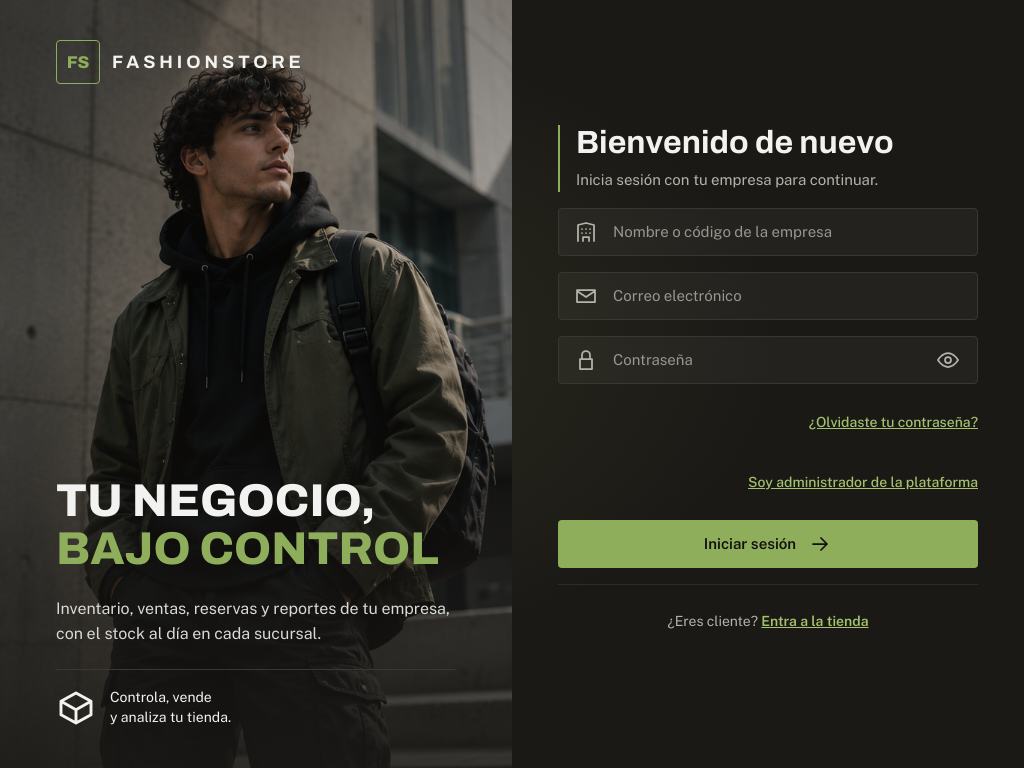
Test case: LoginComponent › login del personal (/admin/login) › el texto del titular cambia entre empresa y administrador de la plataforma
Click the button with class "acceso-enlace" that starts with "Soy administrador de la plataforma".
click(863, 482)  # box [748,460,978,504]
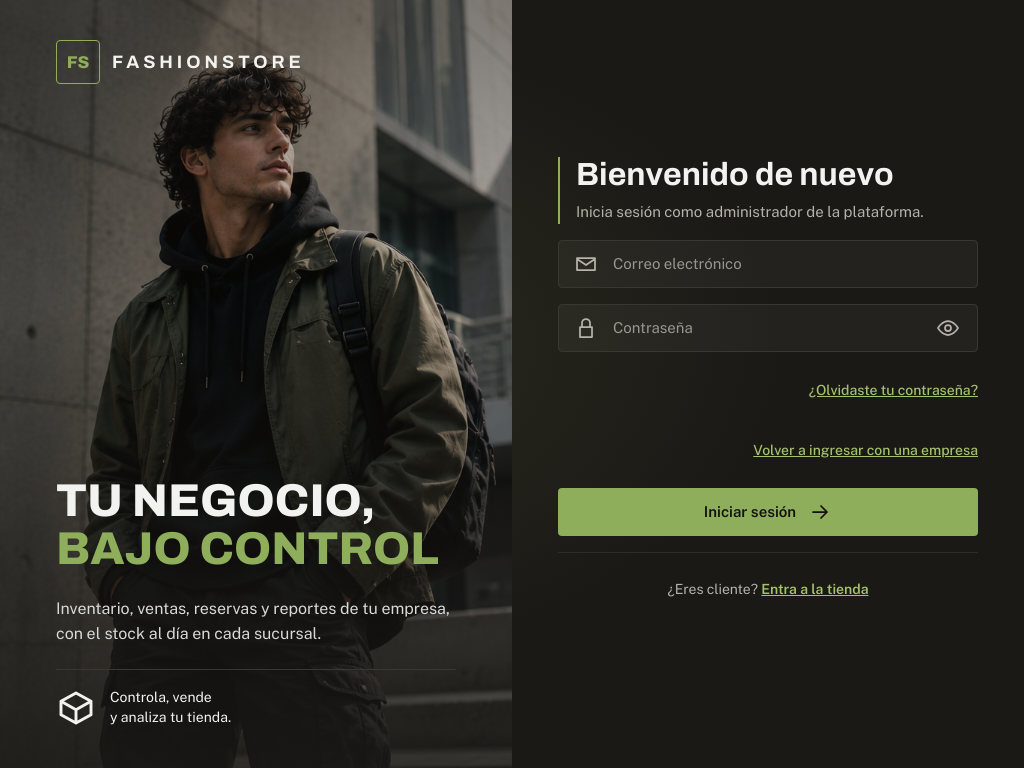
Check: the element with class "acceso-titular" shows "Inicia sesión como administrador de la plataforma.", box [576,204,924,220]
